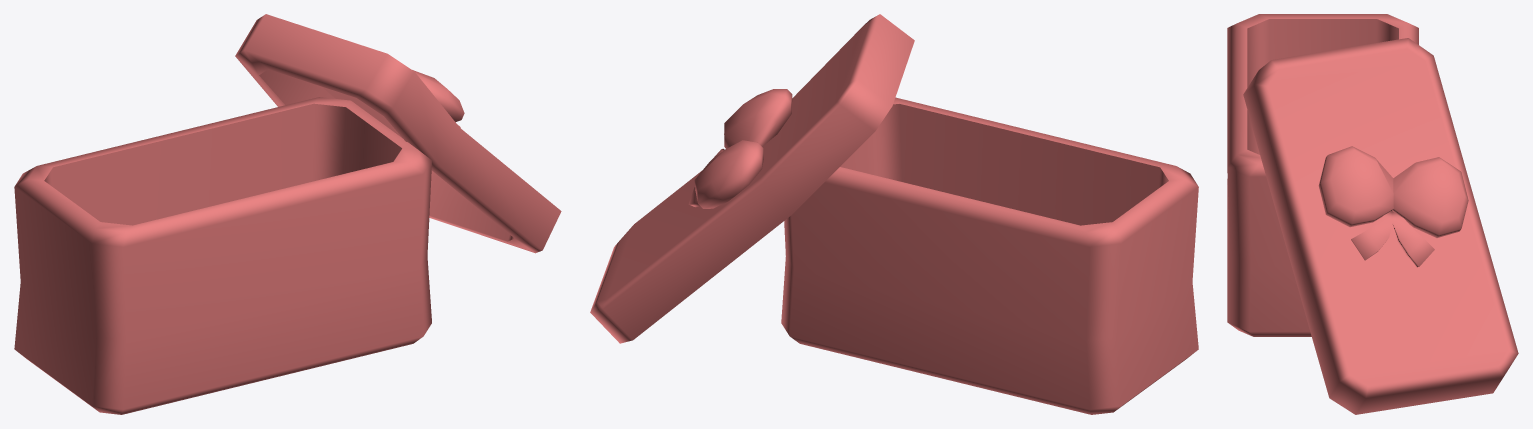
Rendered from Mesh_RegaloAbierto_v001.fbx.
3 renders of one model, left to right at view 1: azimuth 30°, elevation 25°; view 2: azimuth 150°, elevation 25°; view 3: azimuth 270°, elevation 25°, orthographic. The views are drawn at different scales.
Visible parts, largest first — view 1: Mesh_RegaloAbierto_v001; view 2: Mesh_RegaloAbierto_v001; view 3: Mesh_RegaloAbierto_v001.
Part boxes in pixels (left/top/right/bottom): Mesh_RegaloAbierto_v001: left=14, top=14, right=561, bottom=414; Mesh_RegaloAbierto_v001: left=590, top=14, right=1198, bottom=414; Mesh_RegaloAbierto_v001: left=1227, top=14, right=1518, bottom=414.
Size of the model in its own units: 4.03 by 2.06 by 2.04.
